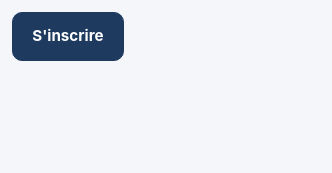
RegistrationAction › clic sur S'inscrire › [F06.2] inscrit le participant, confirme et change le bouton
Click the button "S'inscrire".
click(68, 36)  # box x1=12 y1=12 x2=124 y2=61
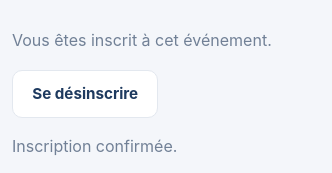
Result: the message reads "Inscription confirmée." at x1=12 y1=136 x2=177 y2=156
Result: the button "Se désinscrire" is shown at x1=12 y1=70 x2=158 y2=118
